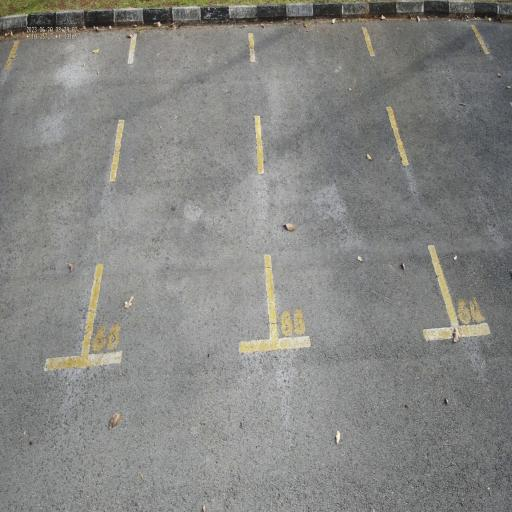Empty: (245, 22, 466, 357), (74, 25, 284, 373)
